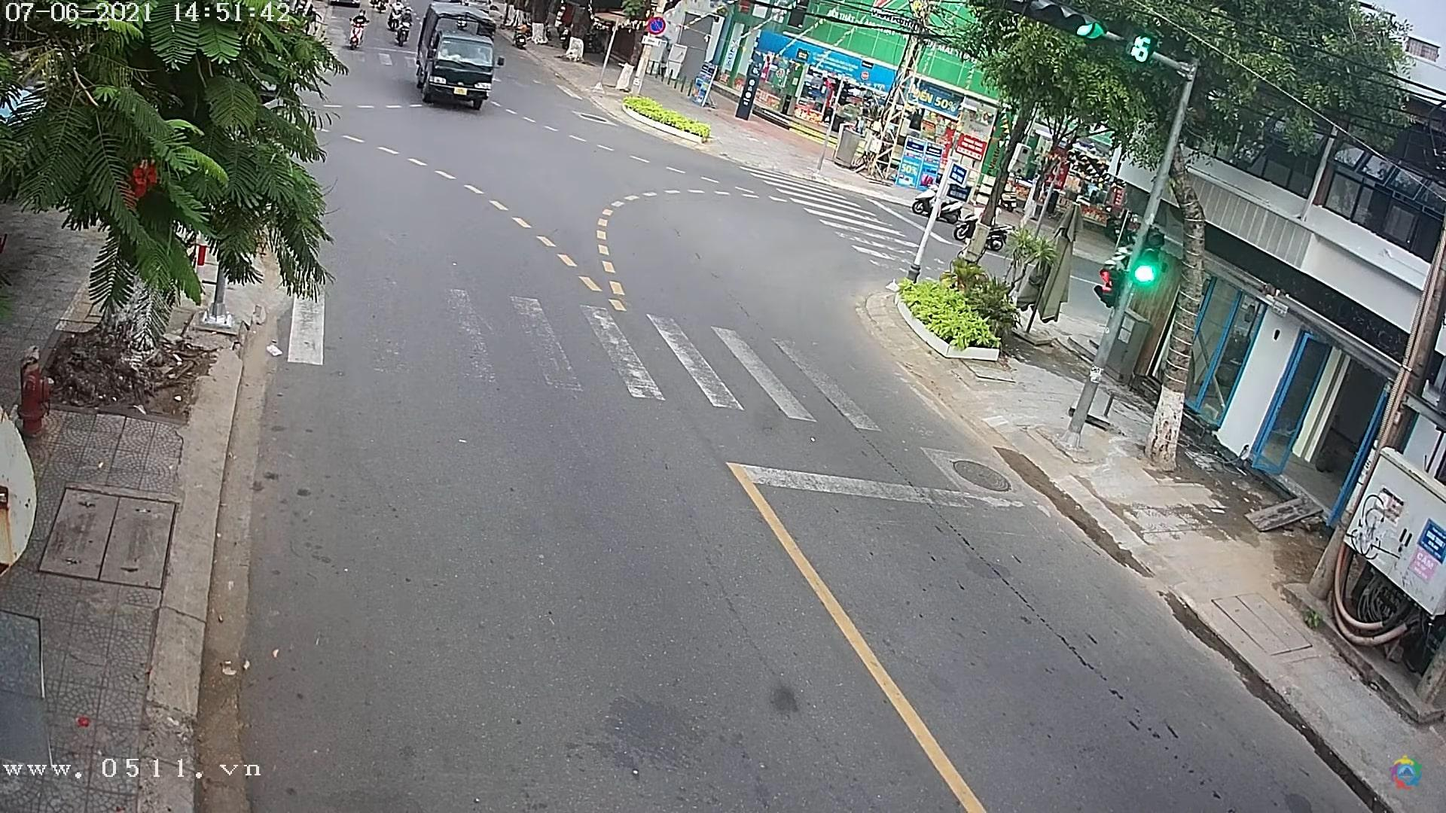truck: (414, 9, 499, 108)
